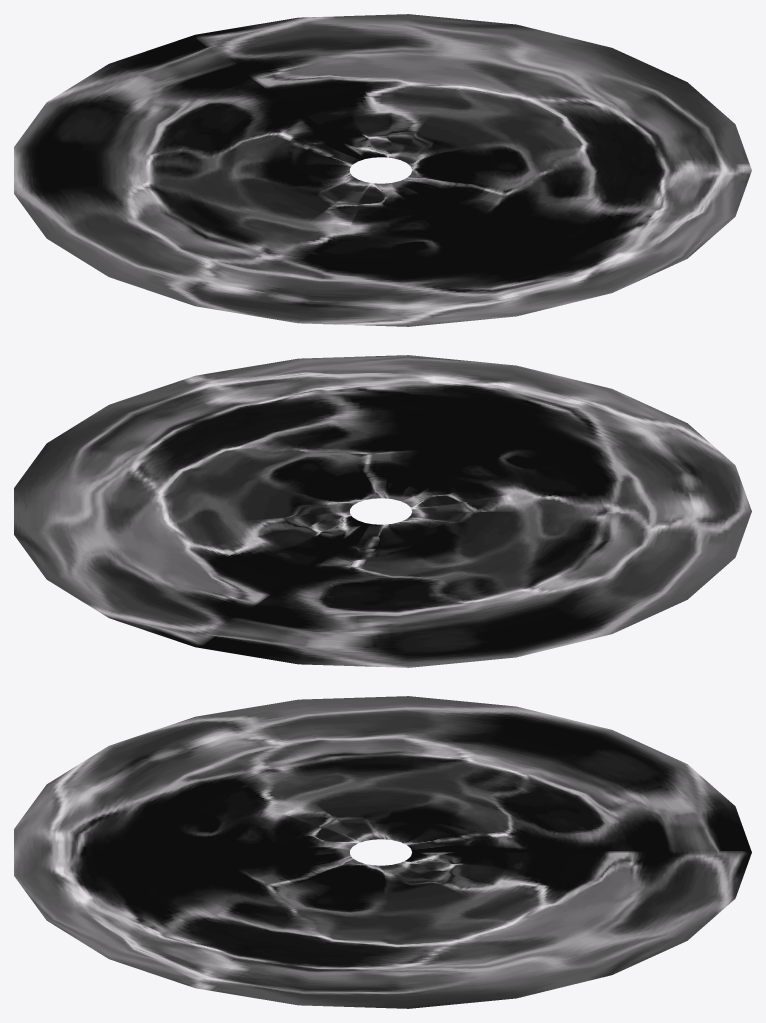
Rendered from yuanhuan_uv_1.FBX.
The picture shows the model from 3 angles, top to bottom: view 1: azimuth 30°, elevation 25°; view 2: azimuth 150°, elevation 25°; view 3: azimuth 270°, elevation 25°; orthographic projection.
Visible parts, largest first — view 1: Tube001; view 2: Tube001; view 3: Tube001.
Part boxes in pixels (<box>): Tube001: <box>14,14,751,326</box>; Tube001: <box>14,355,751,667</box>; Tube001: <box>14,696,751,1008</box>.
Bounding box in the file's own units: 4.65 × 1.31e-15 × 4.64.
